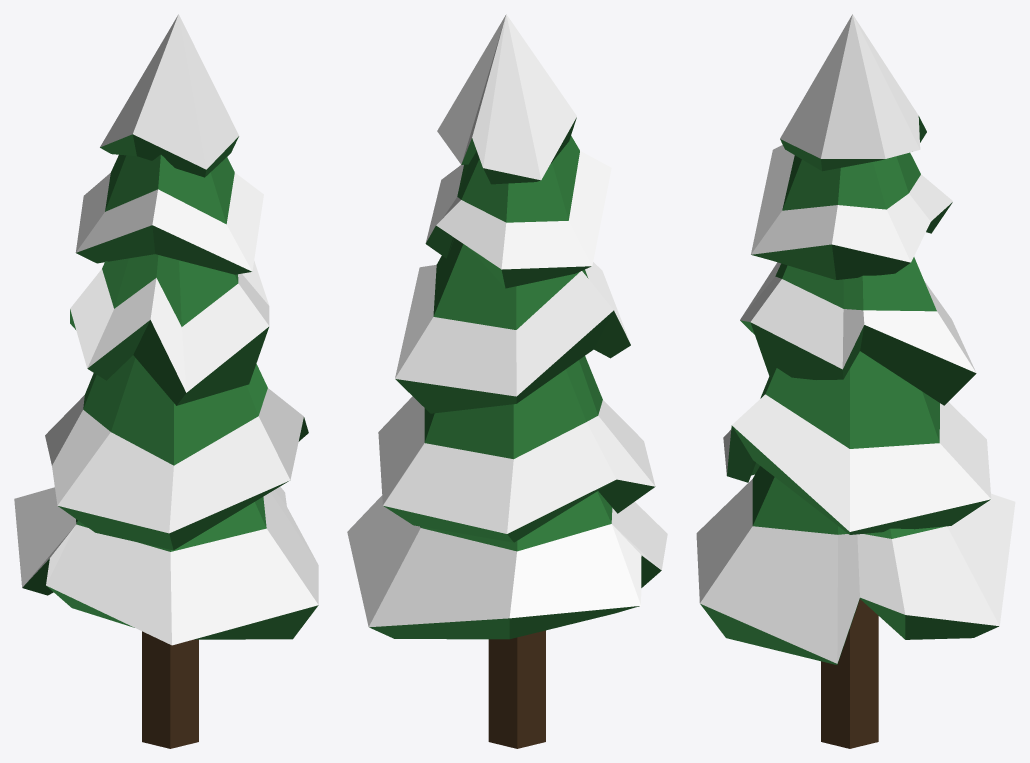
The model's file is Model_Frost_1x1D.fbx.
3 renders of one model, left to right at view 1: azimuth 30°, elevation 25°; view 2: azimuth 150°, elevation 25°; view 3: azimuth 270°, elevation 25°, orthographic.
Parts seen in each view (by area): view 1: xueshan_shu_1_1; view 2: xueshan_shu_1_1; view 3: xueshan_shu_1_1.
Part boxes in pixels (x1,y1,x2,y2): xueshan_shu_1_1: (14, 14, 318, 748); xueshan_shu_1_1: (347, 14, 667, 748); xueshan_shu_1_1: (696, 14, 1015, 748).
Size of the model in its own units: 186 by 458 by 183.
Materials: 1 (1 with a texture image).
